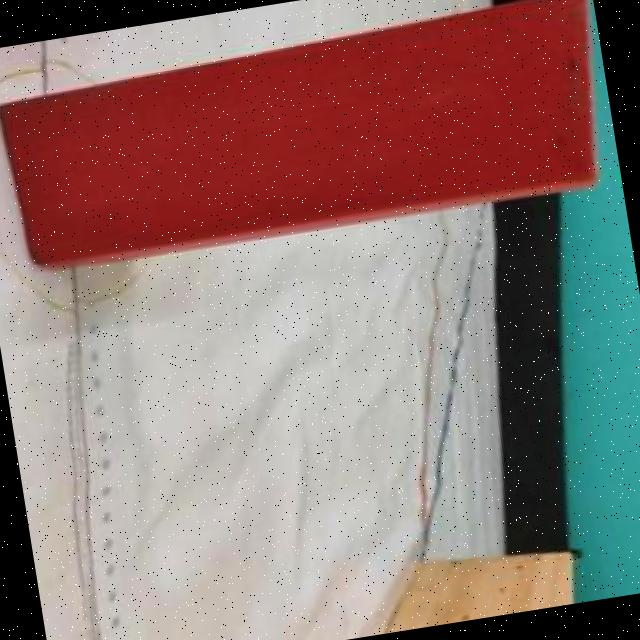redbox: (0, 0, 614, 276)
